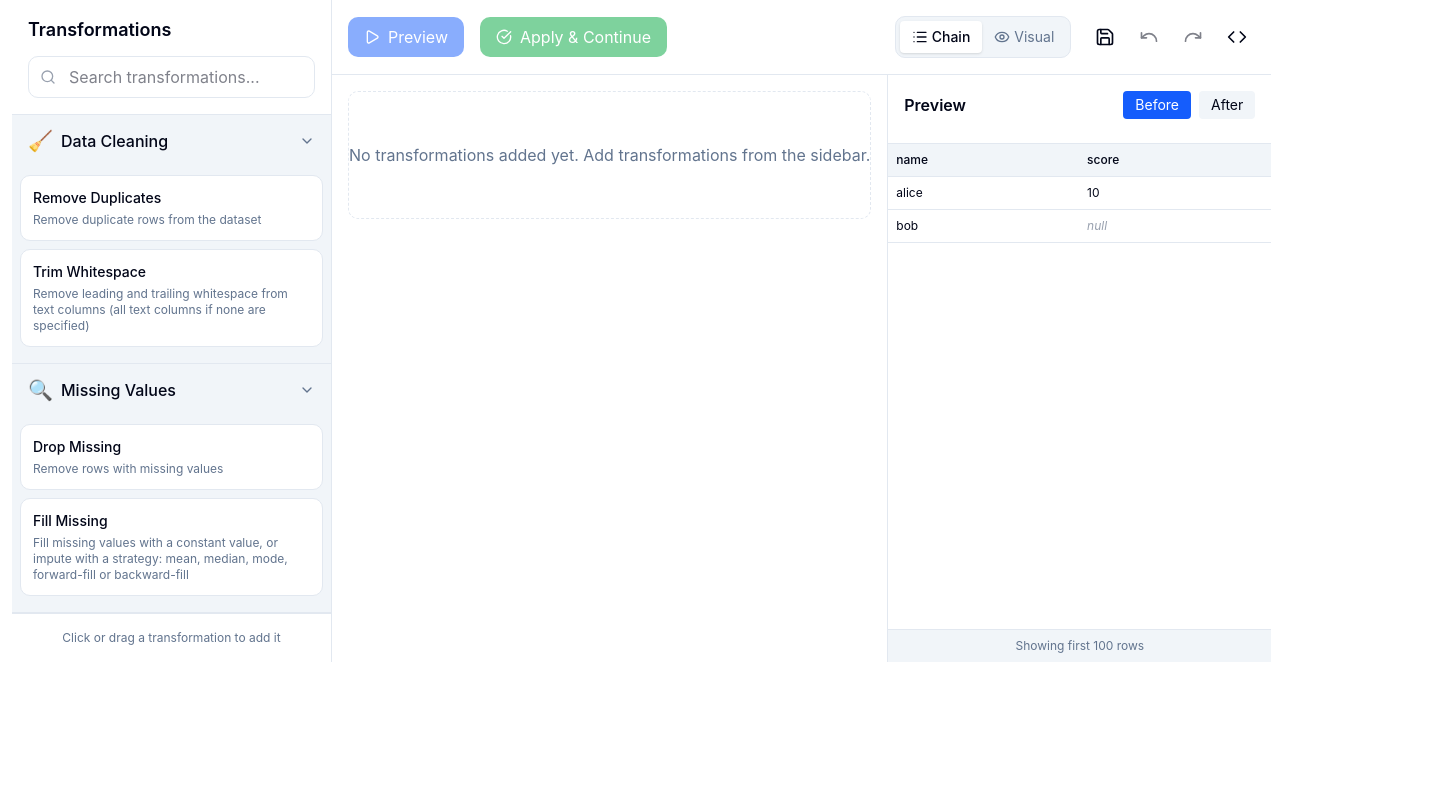
TransformationPipeline actions (#855) › shows a failed apply to the user, naming the step
Click the button with aria-label "add trim whitespace" at (172, 298), box [20,249,323,347]
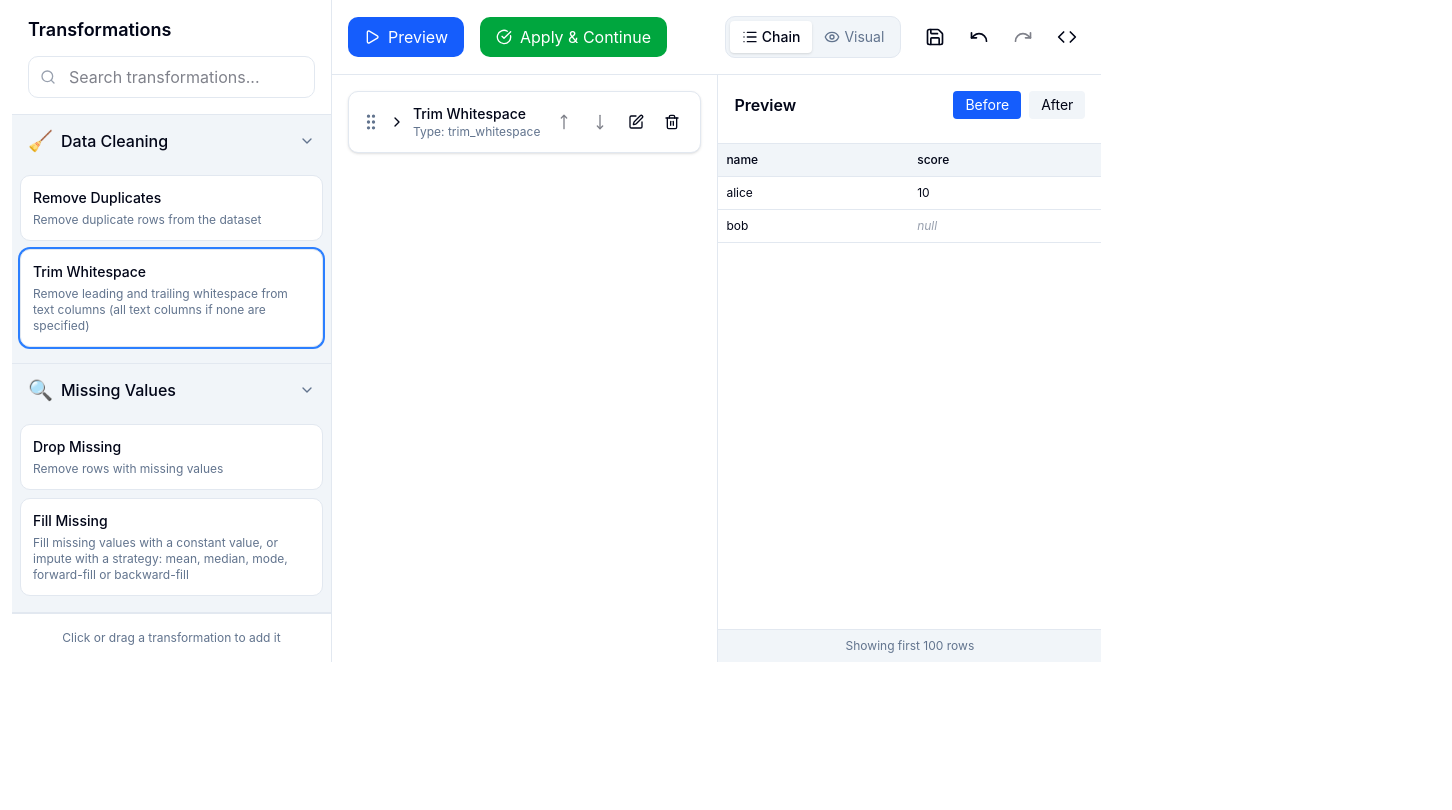
Click the button "Apply & Continue" at (574, 37), box [480,17,667,57]
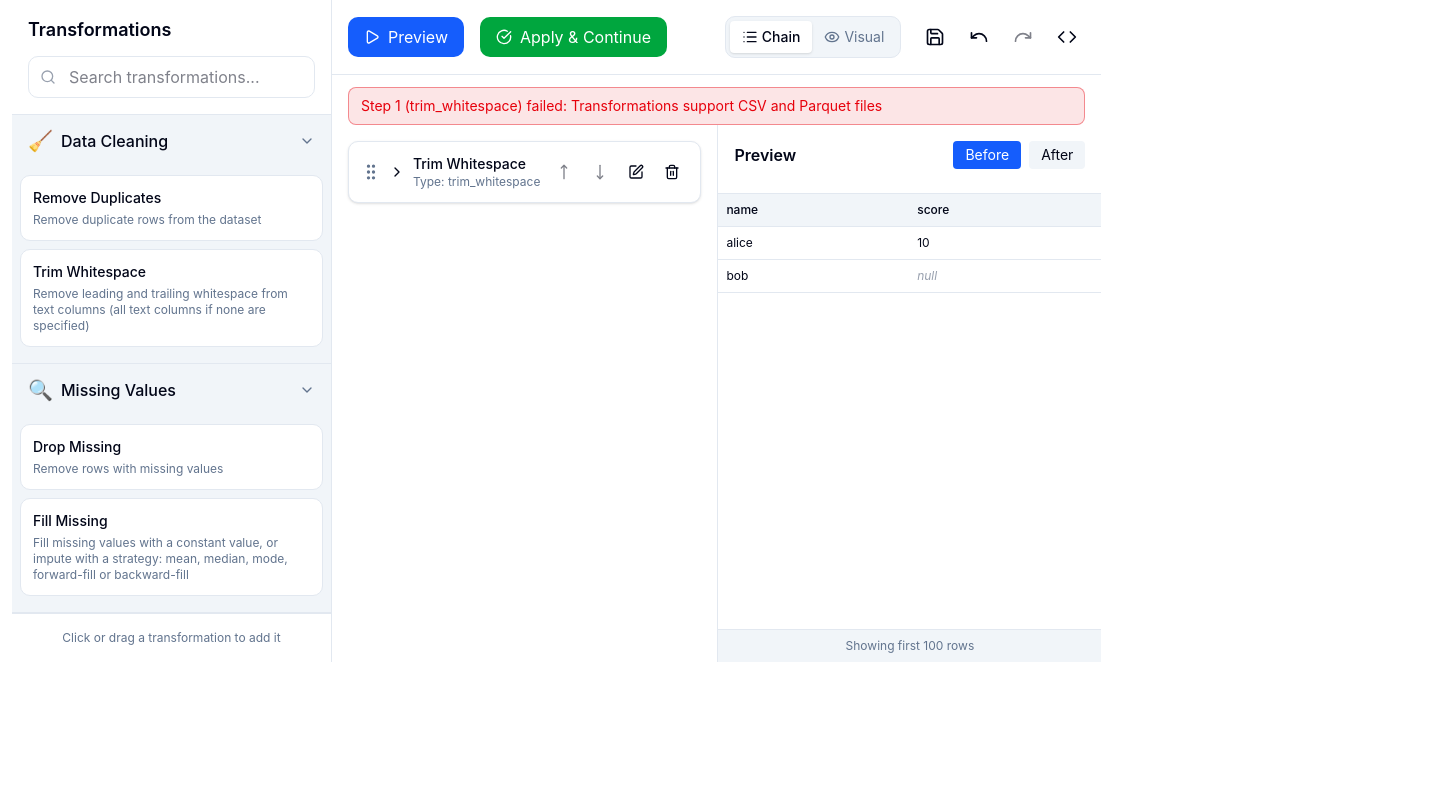
Expected: the message reads "Step 1 (trim_whitespace) failed: Transformations support CSV and Parquet files", [361,97,882,114]
